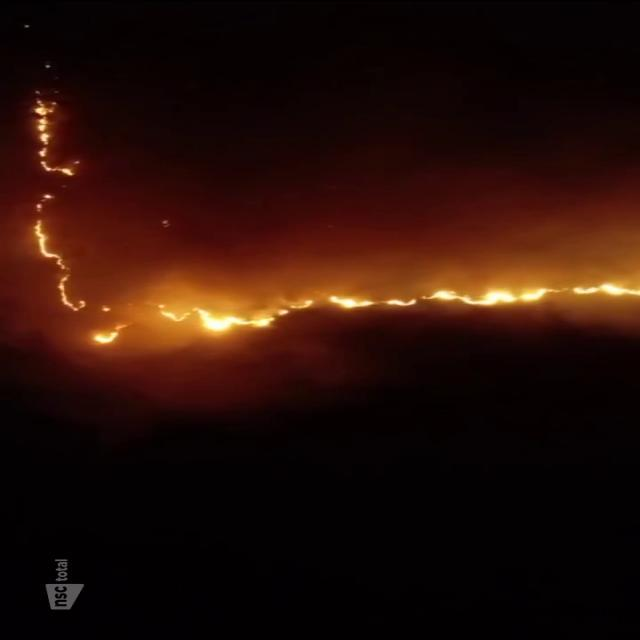Fire: (159, 276, 640, 338), (36, 106, 70, 174), (36, 216, 62, 266), (53, 274, 83, 312), (92, 324, 124, 344)
